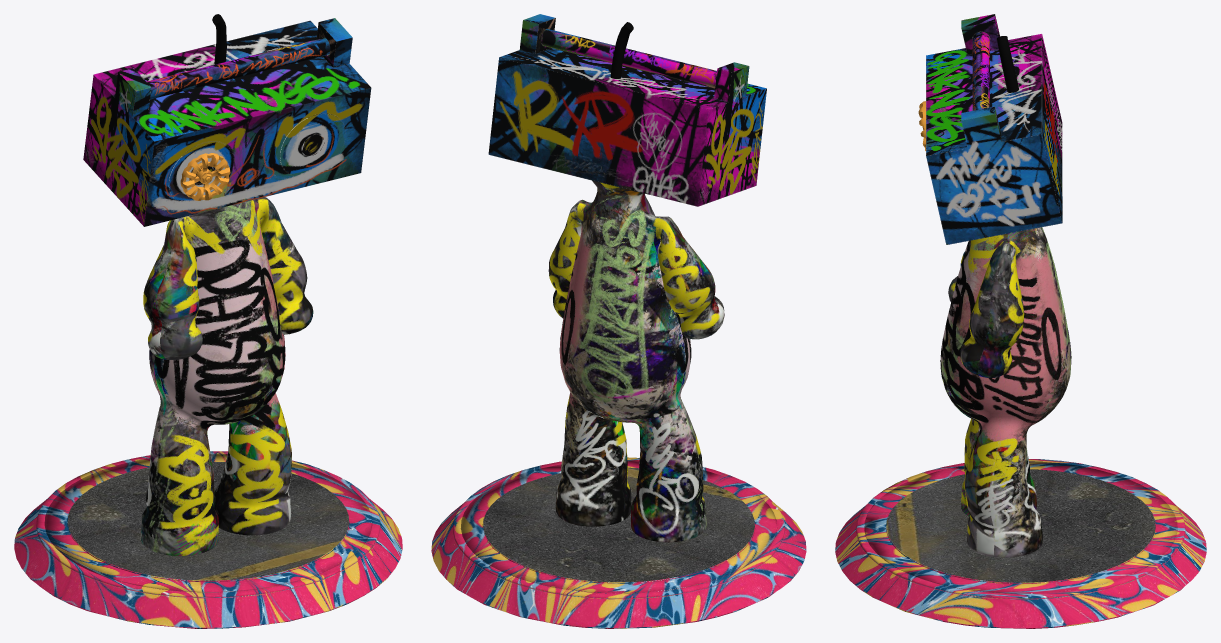
3 renders of one model, left to right at view 1: azimuth 30°, elevation 25°; view 2: azimuth 150°, elevation 25°; view 3: azimuth 270°, elevation 25°, orthographic. The views are drawn at different scales.
Visible parts, largest first — view 1: BBody; view 2: BBody; view 3: BBody.
Part boxes in pixels (x1,y1,x2,y2): BBody: (14, 14, 402, 628); BBody: (431, 14, 806, 628); BBody: (835, 14, 1206, 628).
Size of the model in its own units: 1.45 by 2.21 by 1.45.
Materials: 6 (5 with a texture image).
